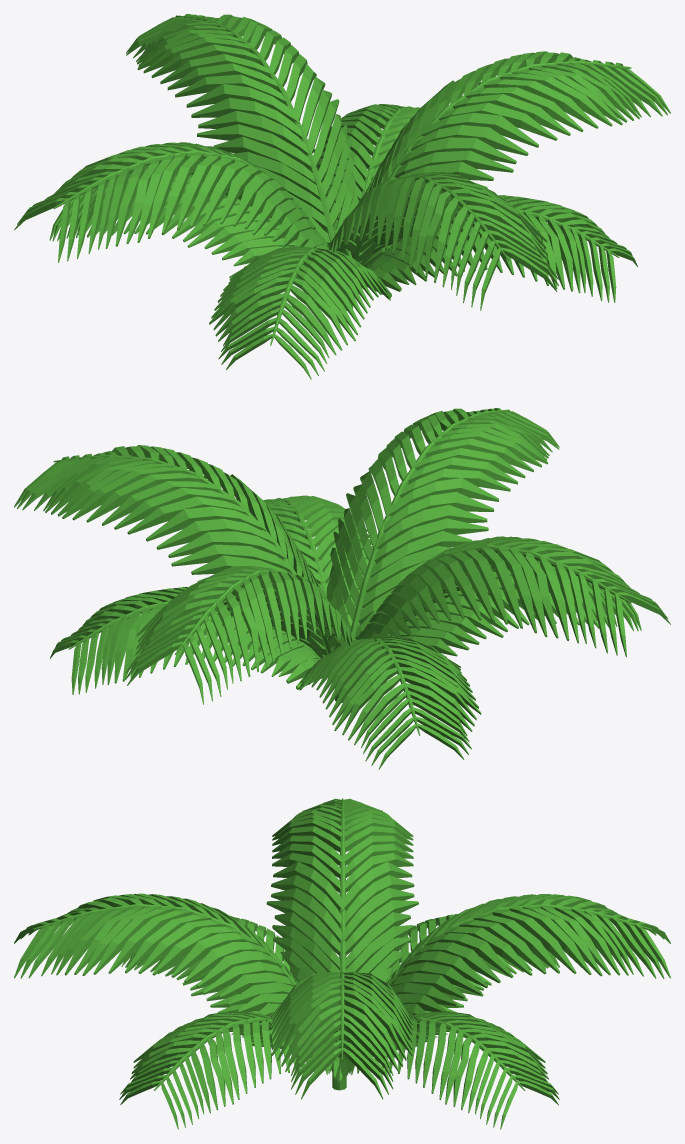
Rendered from ENVI_LV2-3_Bush1.fbx.
3 renders of one model, top to bottom at view 1: azimuth 30°, elevation 25°; view 2: azimuth 150°, elevation 25°; view 3: azimuth 270°, elevation 25°, orthographic. The views are drawn at different scales.
Visible parts, largest first — view 1: Bush1; view 2: Bush1; view 3: Bush1.
Boxes of the visible parts, x1,y1,x2,y2 form: Bush1: [14, 14, 670, 379]; Bush1: [14, 408, 670, 769]; Bush1: [14, 798, 670, 1129].
Size of the model in its own units: 184 by 56.54 by 184.
